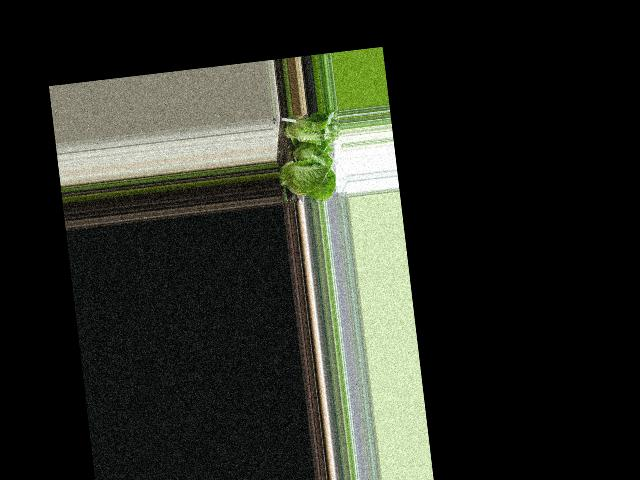lettuce: (277, 113, 336, 150)
